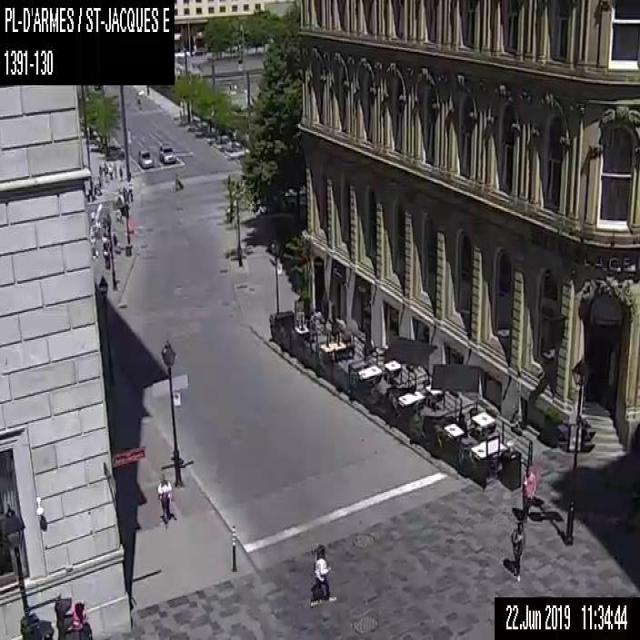pedestrian: (310, 544, 336, 606), (509, 522, 526, 582), (520, 461, 535, 520), (156, 472, 173, 524), (72, 600, 93, 638), (88, 233, 98, 260), (172, 171, 184, 189), (110, 226, 118, 250), (112, 204, 122, 220), (102, 162, 108, 180), (118, 161, 123, 181), (107, 162, 113, 178), (112, 160, 117, 178)
vehicle: (158, 143, 176, 165), (136, 147, 154, 168)
